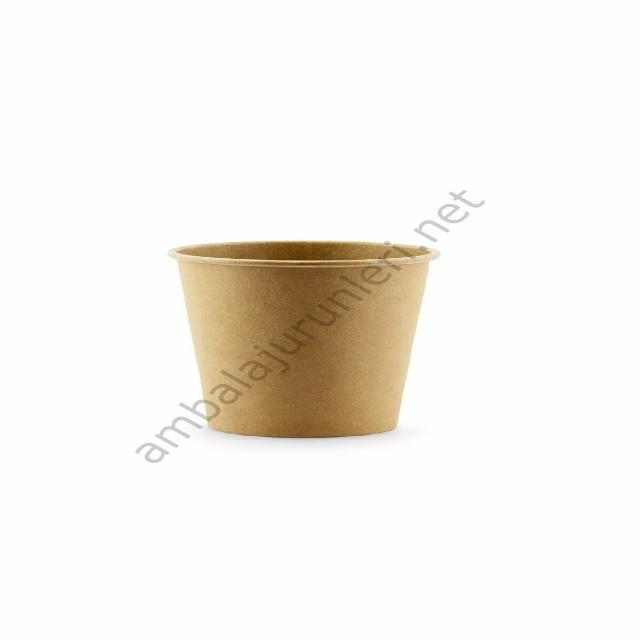trash: (154, 235, 482, 458)
